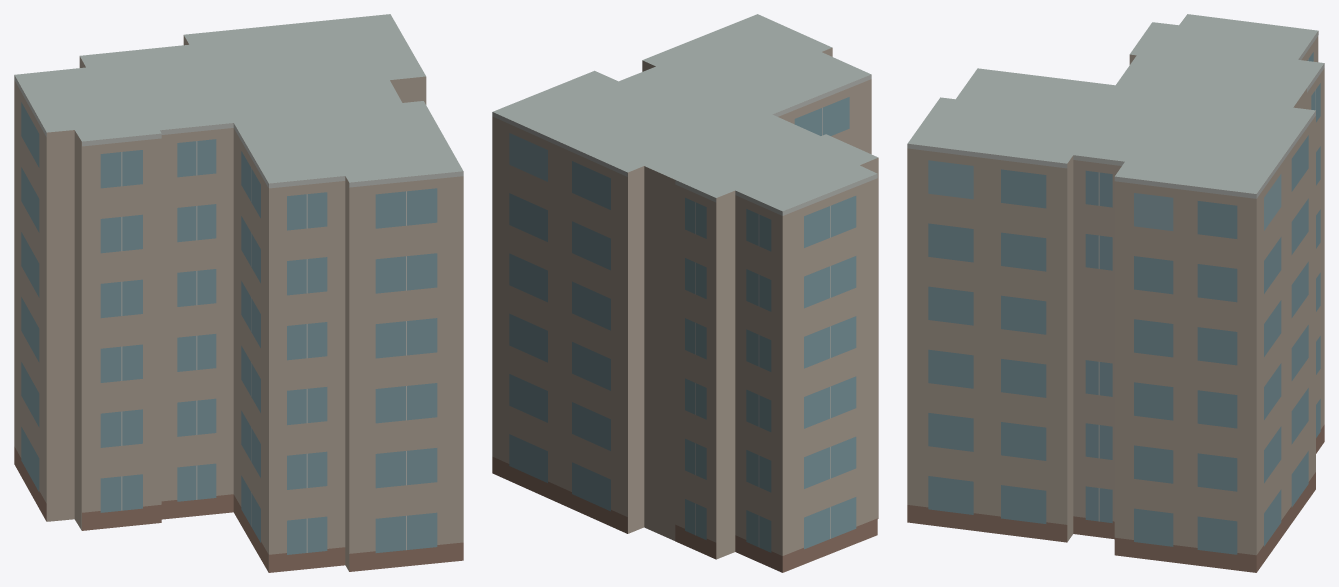
The model's file is survey-upis-32662632.glb.
3 views of the same model, side by side, from view 1: azimuth 30°, elevation 25°; view 2: azimuth 150°, elevation 25°; view 3: azimuth 270°, elevation 25° (orthographic). The views are drawn at different scales.
Visible parts, largest first — view 1: survey-upis-32662632.tmp; view 2: survey-upis-32662632.tmp; view 3: survey-upis-32662632.tmp.
Part boxes in pixels (x1,y1,x2,y2): survey-upis-32662632.tmp: (14, 14, 463, 572); survey-upis-32662632.tmp: (492, 14, 878, 572); survey-upis-32662632.tmp: (907, 14, 1324, 572).
Size of the model in its own units: 19.79 by 19.4 by 19.37.
